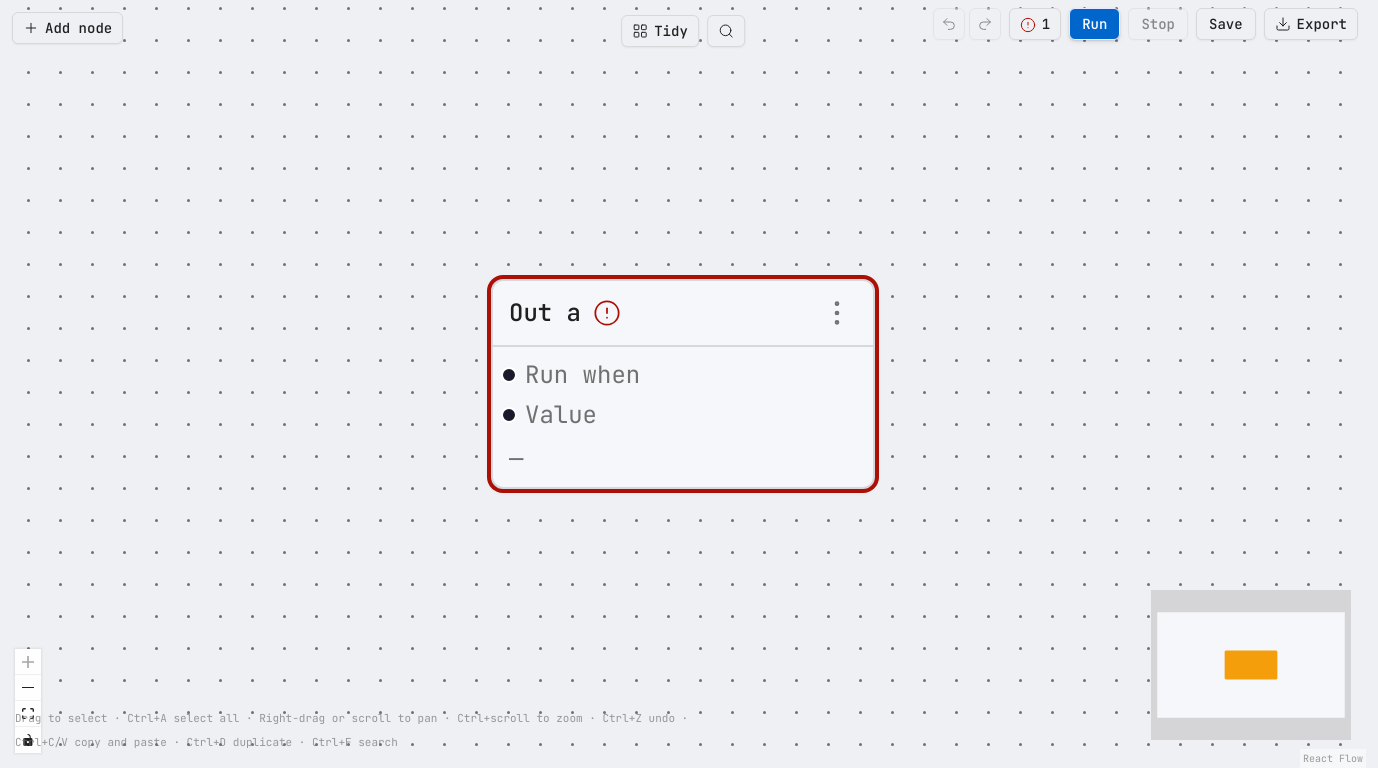
Test: FlowPane export menu › shows an Export menu beside Save, with the report items off before a run
Expected: the button "Save" is shown, [1196,8,1256,40]
Step 1. Click the button "Export" → (1311, 24), box [1264,8,1358,40]
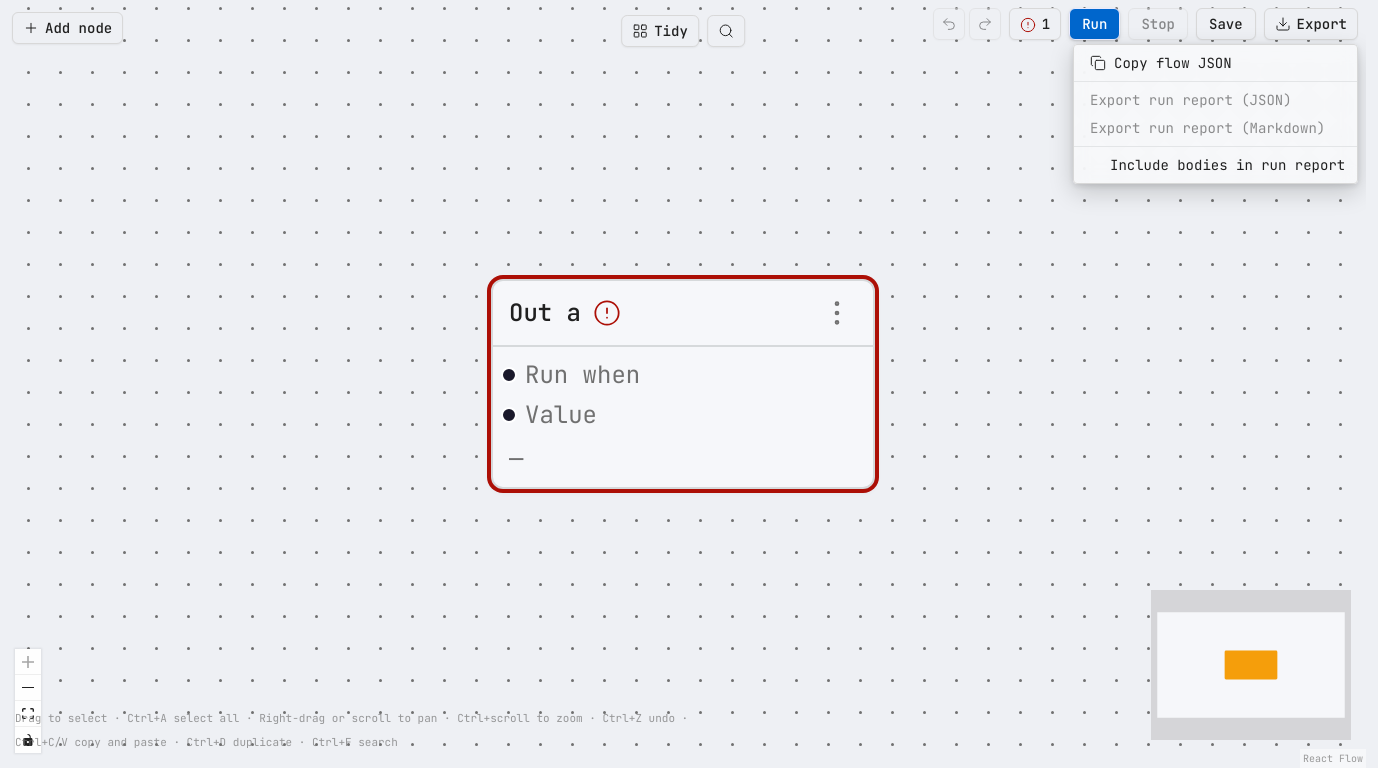
Expected: the menu item "Copy flow JSON" is shown, [1090,54,1232,72]
